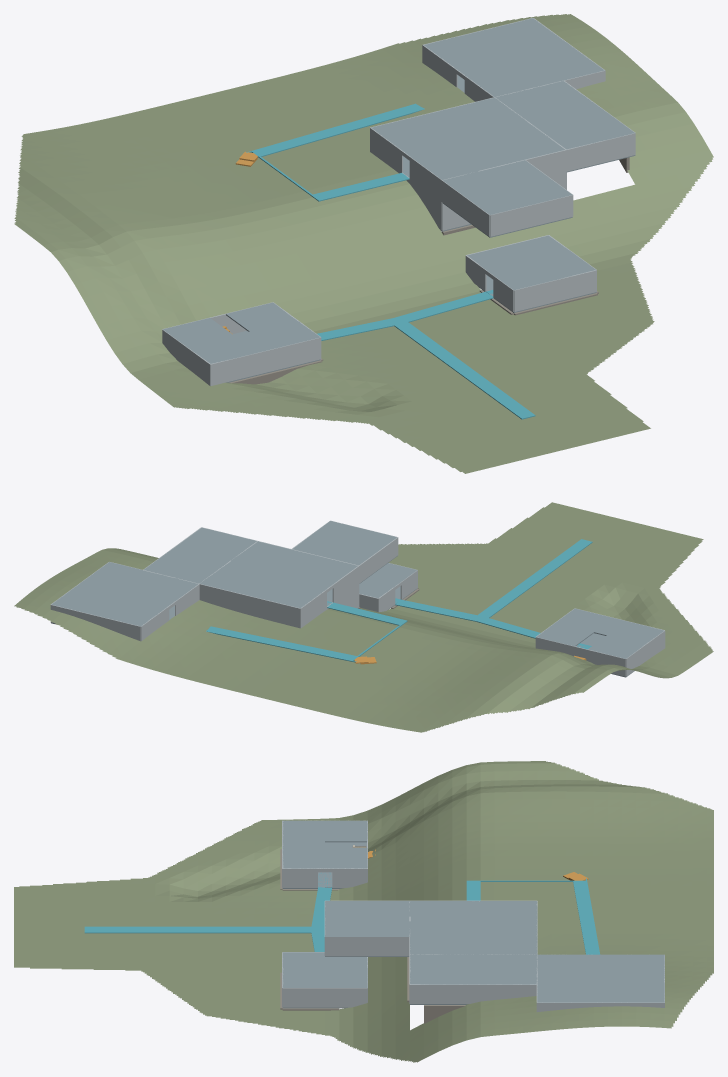
The model's file is supported-stairs.glb.
The picture shows the model from 3 angles, top to bottom: view 1: azimuth 30°, elevation 25°; view 2: azimuth 150°, elevation 25°; view 3: azimuth 270°, elevation 25°; orthographic projection. The views are drawn at different scales.
Parts seen in each view (by area): view 1: Saved editor occupied-room terrain WLD-03, Ceiling cap gallery, Ceiling cap chamber, Ceiling cap fork, Ceiling cap alcove, Ceiling cap wash, Wall shelter S, Wall wash S, Wall alcove S, L12 support 0, Wall fork S, Ceiling cap shelter.003 (+12 smaller); view 2: Saved editor occupied-room terrain WLD-03, Ceiling cap gallery, Ceiling cap chamber, Ceiling cap fork, Ceiling cap alcove, Wall gallery N, L12 support 0, Ceiling cap wash, Wall shelter N, Wall chamber N, Ceiling cap shelter.003, Ceiling cap shelter.004 (+13 smaller); view 3: Saved editor occupied-room terrain WLD-03, Ceiling cap gallery, Ceiling cap chamber, Ceiling cap fork, Ceiling cap alcove, Ceiling cap wash, Wall fork E, Wall alcove E, Wall wash E, L12 support 0, Ceiling cap shelter, Ceiling cap shelter.001 (+8 smaller).
Part boxes in pixels (left/top/right/bottom): Saved editor occupied-room terrain WLD-03: left=14, top=14, right=713, bottom=473; Ceiling cap gallery: left=371, top=97, right=564, bottom=179; Ceiling cap chamber: left=424, top=18, right=604, bottom=96; Ceiling cap fork: left=495, top=80, right=634, bottom=149; Ceiling cap alcove: left=443, top=160, right=572, bottom=214; Ceiling cap wash: left=467, top=235, right=595, bottom=290; Wall shelter S: left=210, top=337, right=320, bottom=385; Wall wash S: left=514, top=270, right=596, bottom=311; Wall alcove S: left=490, top=195, right=572, bottom=236; L12 support 0: left=246, top=103, right=424, bottom=156; Wall fork S: left=566, top=133, right=635, bottom=171; Ceiling cap shelter.003: left=226, top=302, right=296, bottom=331; Saved editor occupied-room terrain WLD-03: left=14, top=502, right=713, bottom=732; Ceiling cap gallery: left=200, top=541, right=357, bottom=608; Ceiling cap chamber: left=51, top=562, right=197, bottom=626; Ceiling cap fork: left=144, top=527, right=256, bottom=583; Ceiling cap alcove: left=292, top=521, right=396, bottom=565; Wall gallery N: left=199, top=583, right=300, bottom=626; L12 support 0: left=206, top=626, right=357, bottom=662; Ceiling cap wash: left=359, top=563, right=416, bottom=598; Wall shelter N: left=535, top=637, right=625, bottom=676; Wall chamber N: left=50, top=604, right=140, bottom=641; Ceiling cap shelter.003: left=536, top=623, right=593, bottom=646; Ceiling cap shelter.004: left=556, top=608, right=612, bottom=631; Saved editor occupied-room terrain WLD-03: left=14, top=761, right=713, bottom=1062; Ceiling cap gallery: left=410, top=901, right=537, bottom=954; Ceiling cap chamber: left=537, top=954, right=664, bottom=1002; Ceiling cap fork: left=410, top=954, right=537, bottom=984; Ceiling cap alcove: left=325, top=901, right=409, bottom=936; Ceiling cap wash: left=282, top=952, right=367, bottom=987; Wall fork E: left=410, top=984, right=537, bottom=1003; Wall alcove E: left=325, top=937, right=409, bottom=956; Wall wash E: left=282, top=988, right=367, bottom=1007; L12 support 0: left=573, top=878, right=600, bottom=954; Ceiling cap shelter: left=325, top=820, right=367, bottom=842; Ceiling cap shelter.001: left=282, top=820, right=324, bottom=841.
Bounding box in the file's own units: 91 × 12.65 × 99.
Materials: 19 (12 with a texture image).
